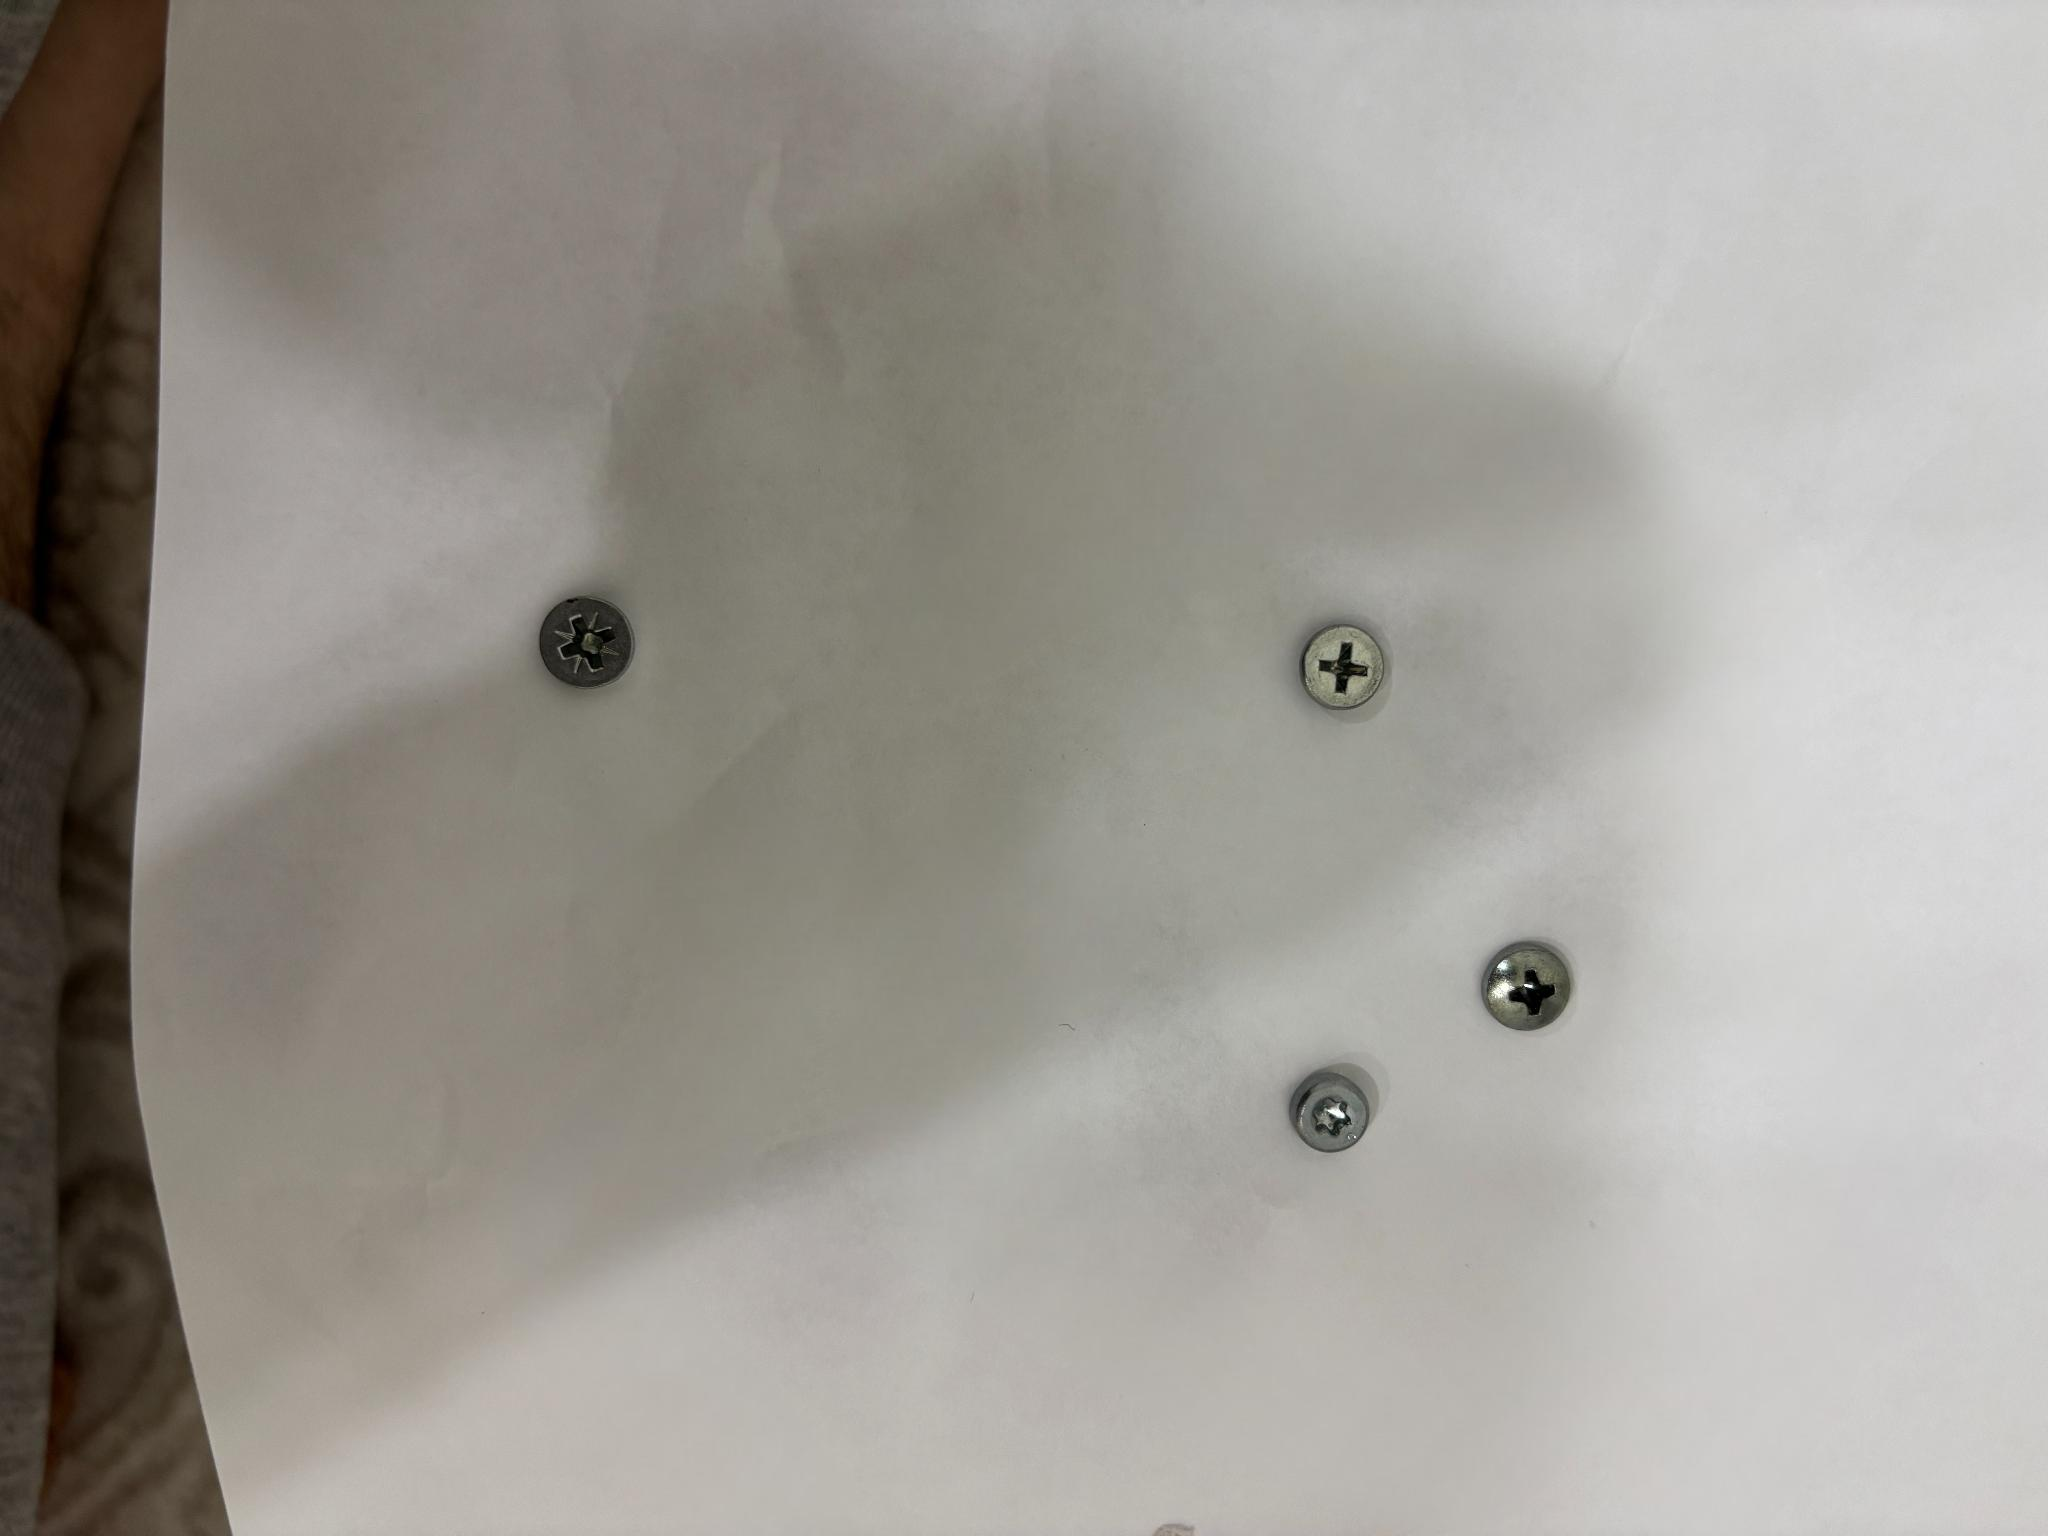PH: (1480, 941, 1574, 1031), (1300, 624, 1385, 713)
PZ: (537, 597, 635, 687)
T: (1290, 1068, 1372, 1154)
